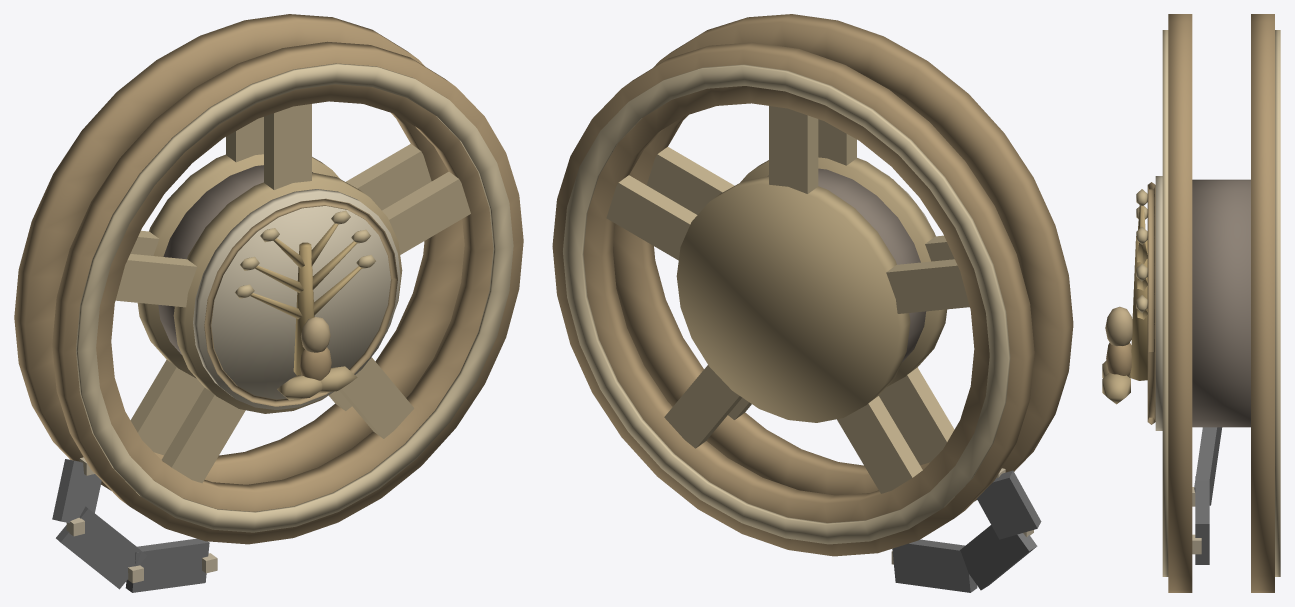
File: ART-52.glb
The picture shows the model from 3 angles, left to right: view 1: azimuth 30°, elevation 25°; view 2: azimuth 150°, elevation 25°; view 3: azimuth 270°, elevation 25°; orthographic projection. The views are drawn at different scales.
Parts seen in each view (by area): view 1: world; view 2: world; view 3: world.
Boxes of the visible parts, bbox=[...] form: world: bbox=[14, 14, 523, 592]; world: bbox=[552, 14, 1073, 592]; world: bbox=[1102, 14, 1280, 592].
Bounding box in the file's own units: 1.86 × 2 × 0.5727.
